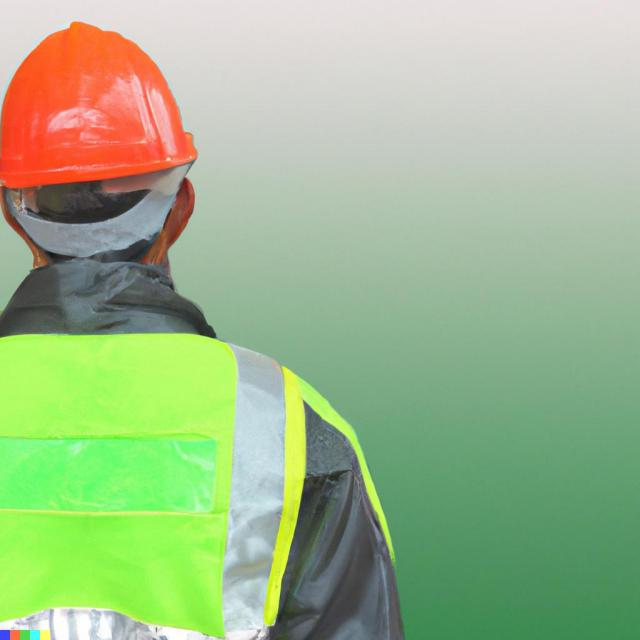Reflective-Jacket: (0, 279, 411, 640)
Safety-Helmet: (0, 23, 198, 191)
